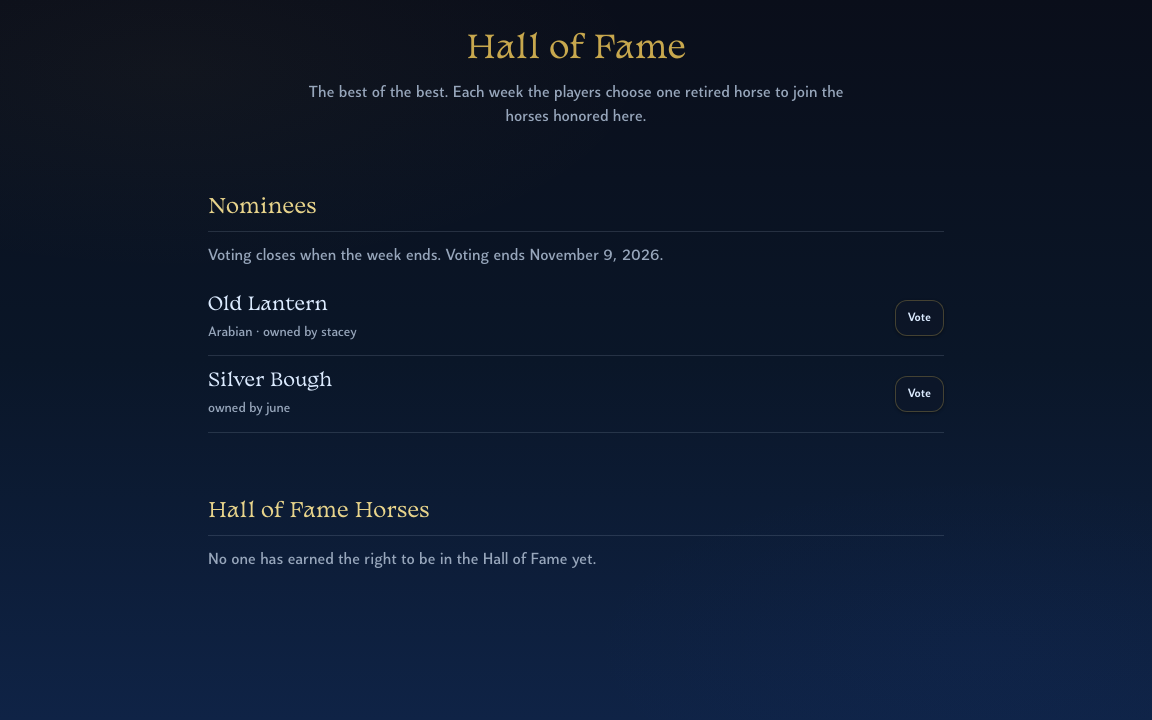
Test case: Hall of Fame page (Equoria-vb1n0) › shows a refused vote at the vote, not silently
The width and height of the screenshot is (1152, 720).
Click the button with aria-label "Vote for Old Lantern": x=919, y=318 [895, 300, 944, 336]
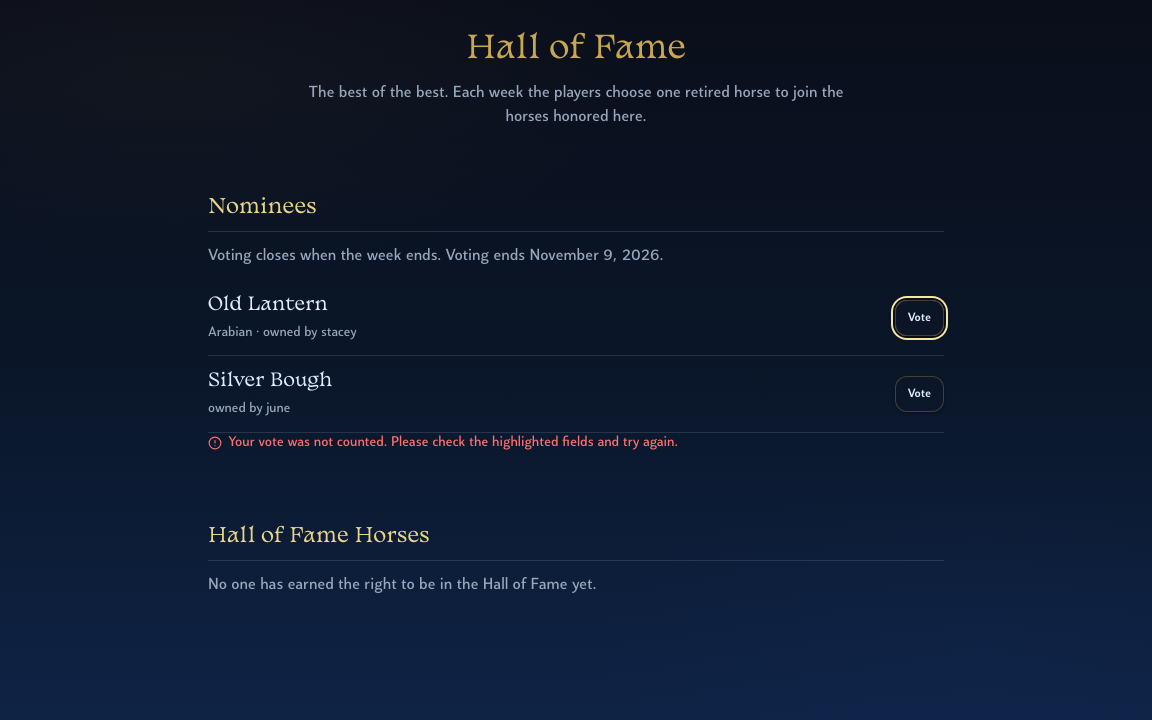
Expected: the text "Your vote was not counted" is shown, [228, 435, 678, 450]
